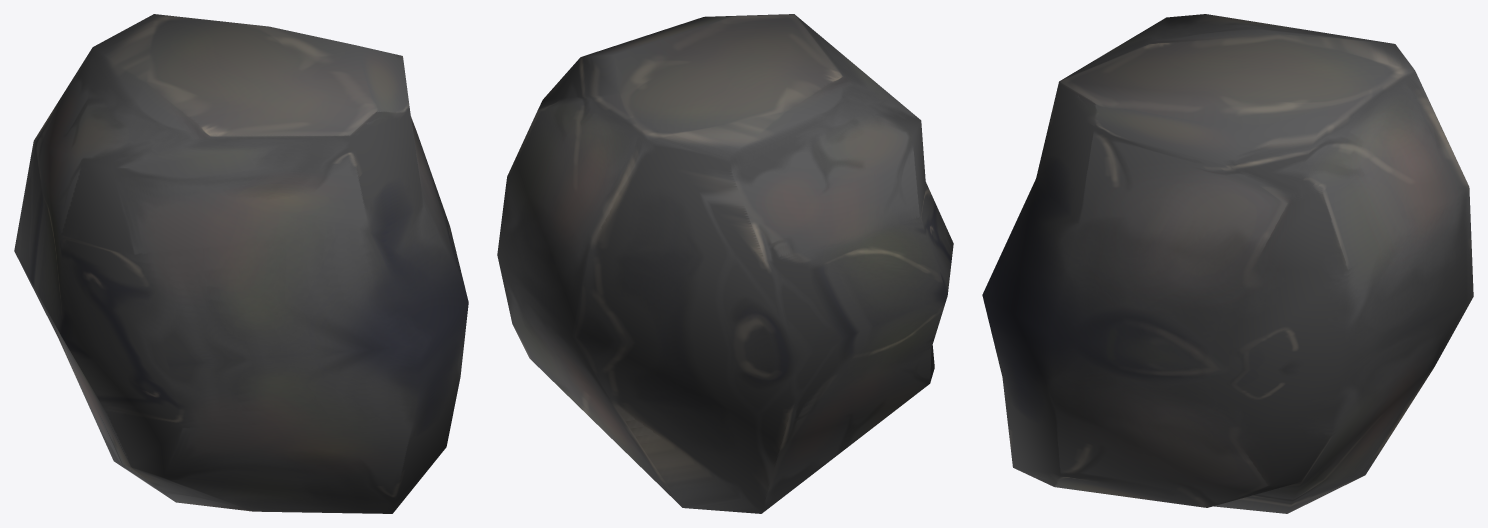
Rendered from rock_2.gltf.
3 renders of one model, left to right at view 1: azimuth 30°, elevation 25°; view 2: azimuth 150°, elevation 25°; view 3: azimuth 270°, elevation 25°, orthographic. The views are drawn at different scales.
Visible parts, largest first — view 1: Rock2; view 2: Rock2; view 3: Rock2.
Boxes of the visible parts, x1,y1,x2,y2 form: Rock2: [14, 14, 468, 513]; Rock2: [497, 14, 953, 513]; Rock2: [982, 14, 1473, 513].
Size of what is drawn, in the model's own units: 1.2 by 1.14 by 1.23.
Materials: 1 (1 with a texture image).
